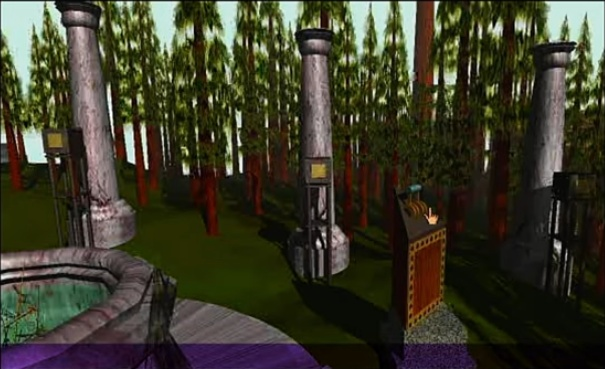Pointer: (421, 205, 443, 227)
